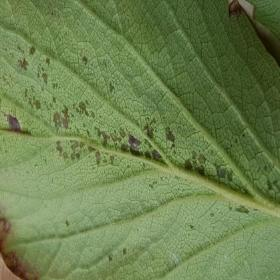Angular Leafspot: (0, 8, 279, 268)
